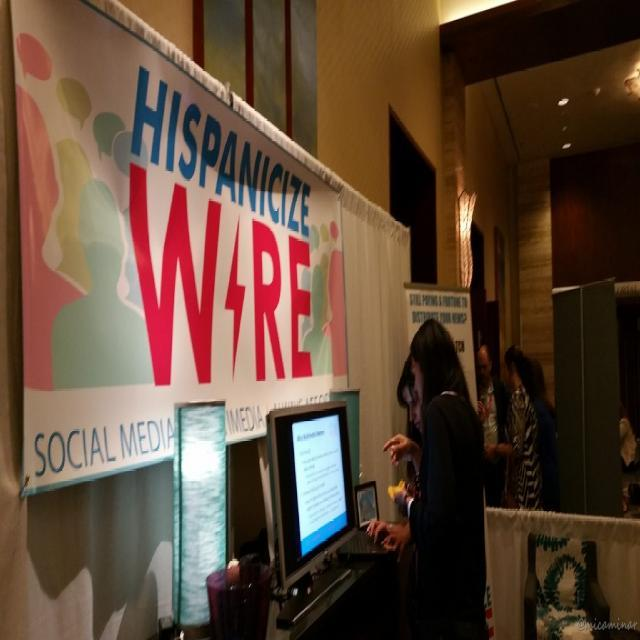others: (133, 315, 640, 640)
